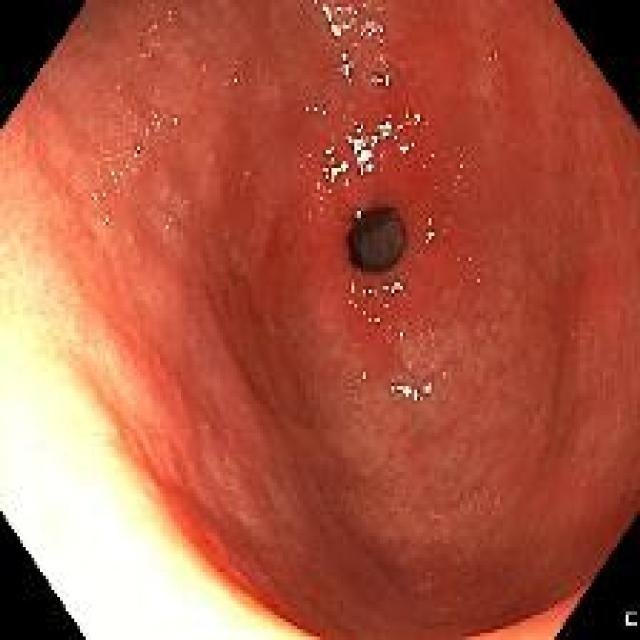bubbles: (343, 275, 409, 329), (384, 375, 436, 404), (143, 105, 181, 133), (427, 490, 452, 526), (369, 65, 395, 93), (420, 213, 441, 245), (368, 66, 393, 92), (219, 72, 242, 92), (483, 46, 502, 69), (420, 566, 436, 591), (471, 268, 487, 292), (127, 137, 145, 156), (374, 50, 391, 67), (158, 218, 173, 235), (97, 213, 111, 231), (566, 330, 581, 343), (566, 159, 577, 175), (349, 208, 361, 222), (395, 235, 404, 248)
saturation: (84, 455, 308, 639), (1, 237, 84, 635)
specularity: (317, 104, 426, 188), (313, 1, 380, 42), (385, 379, 438, 403), (360, 279, 407, 302), (352, 301, 380, 324), (368, 69, 394, 92), (336, 50, 353, 81), (422, 218, 436, 243), (148, 110, 160, 131), (222, 75, 240, 89), (302, 102, 318, 116), (474, 274, 485, 287), (360, 369, 369, 384), (347, 281, 354, 300), (488, 52, 499, 64), (169, 113, 179, 126), (131, 142, 141, 154)
